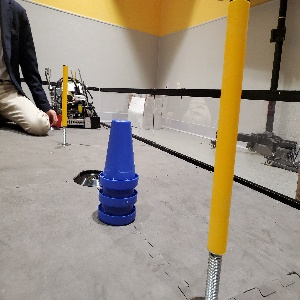Blue_3: (96, 117, 138, 226)
